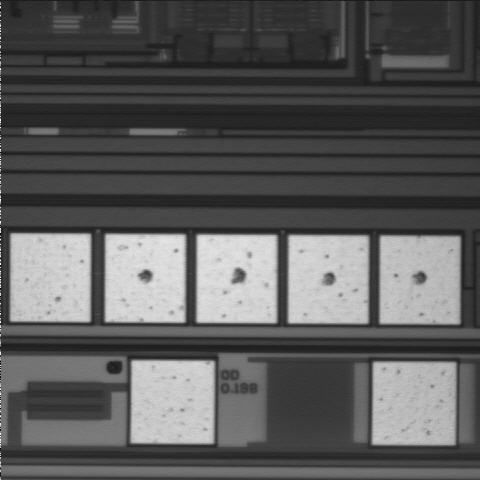pad: (197, 235, 277, 323), (105, 235, 185, 322), (11, 234, 90, 322), (289, 236, 368, 323), (131, 361, 214, 443), (380, 237, 459, 323), (373, 363, 455, 444)
